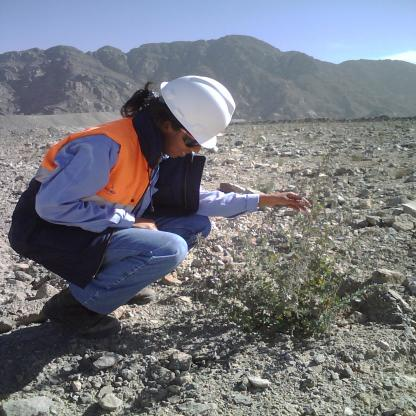person: (20, 67, 303, 337)
